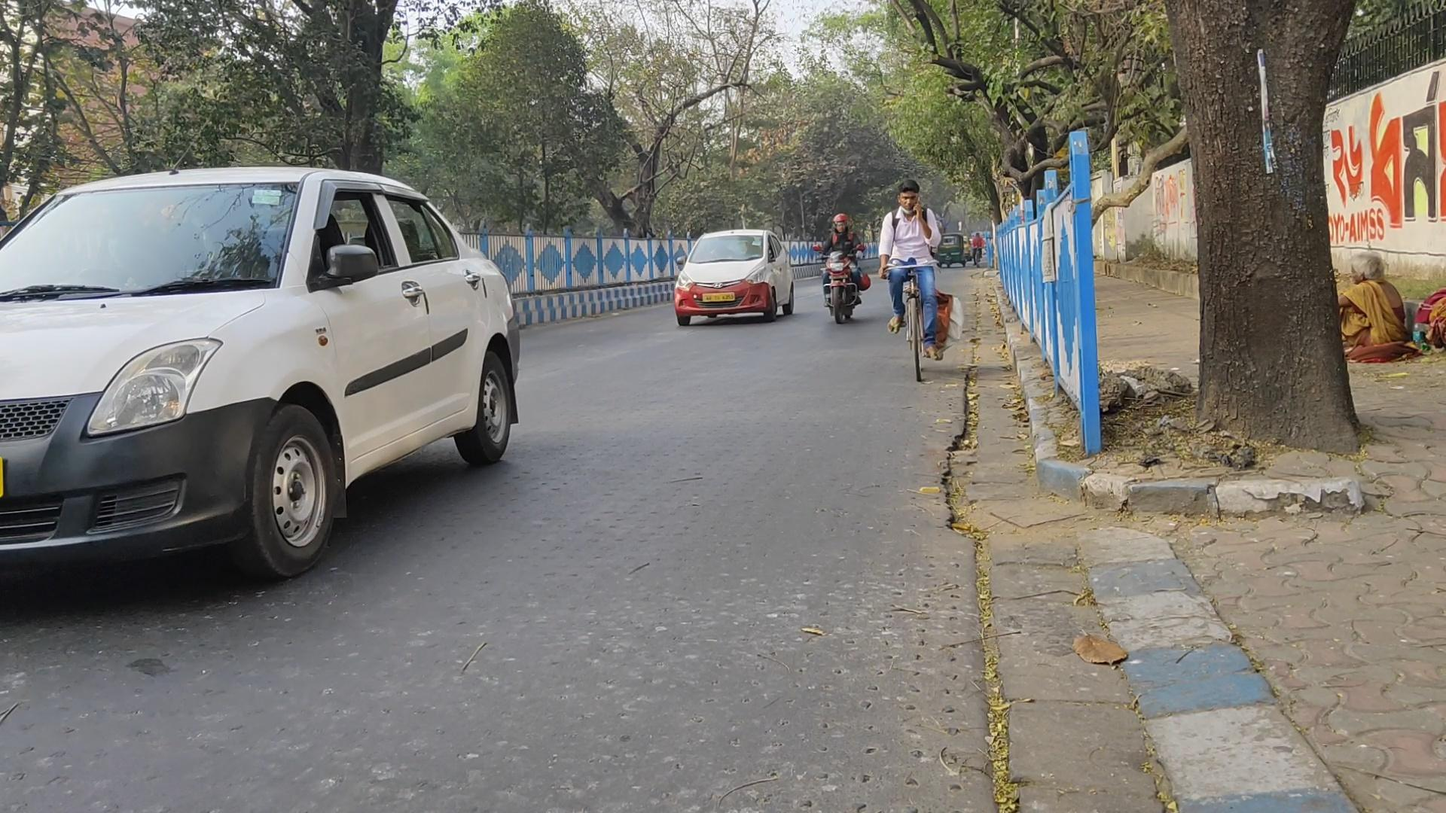Auto: (935, 233, 967, 268)
bike: (878, 179, 953, 383), (814, 212, 871, 325), (971, 231, 986, 267)
car: (2, 165, 520, 580), (673, 227, 795, 327)
